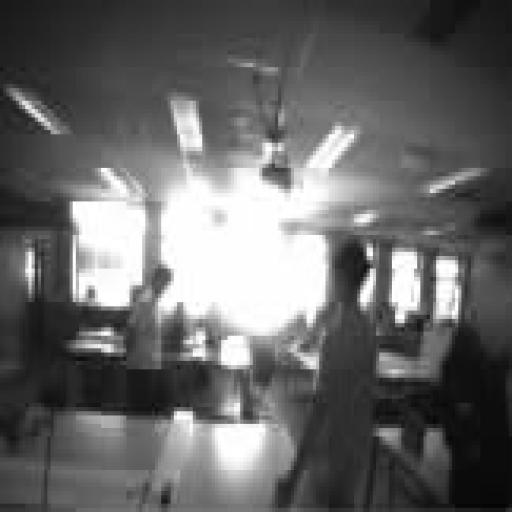human: (275, 240, 376, 507), (127, 265, 173, 415)
